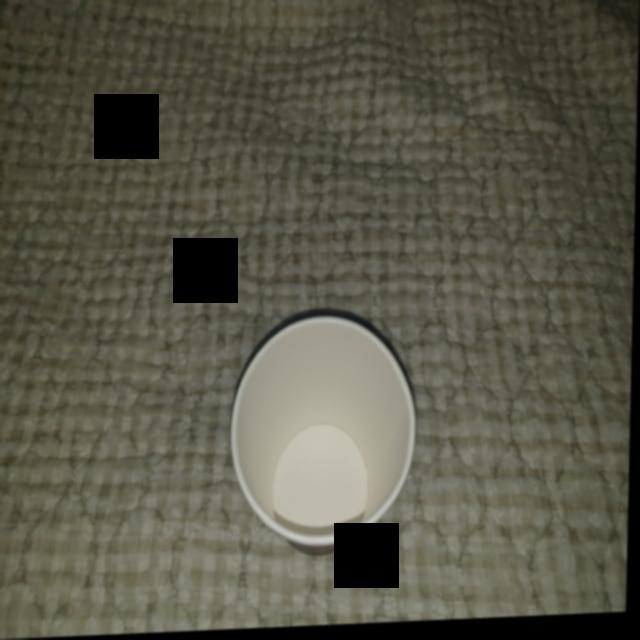cups: (222, 308, 425, 568)
